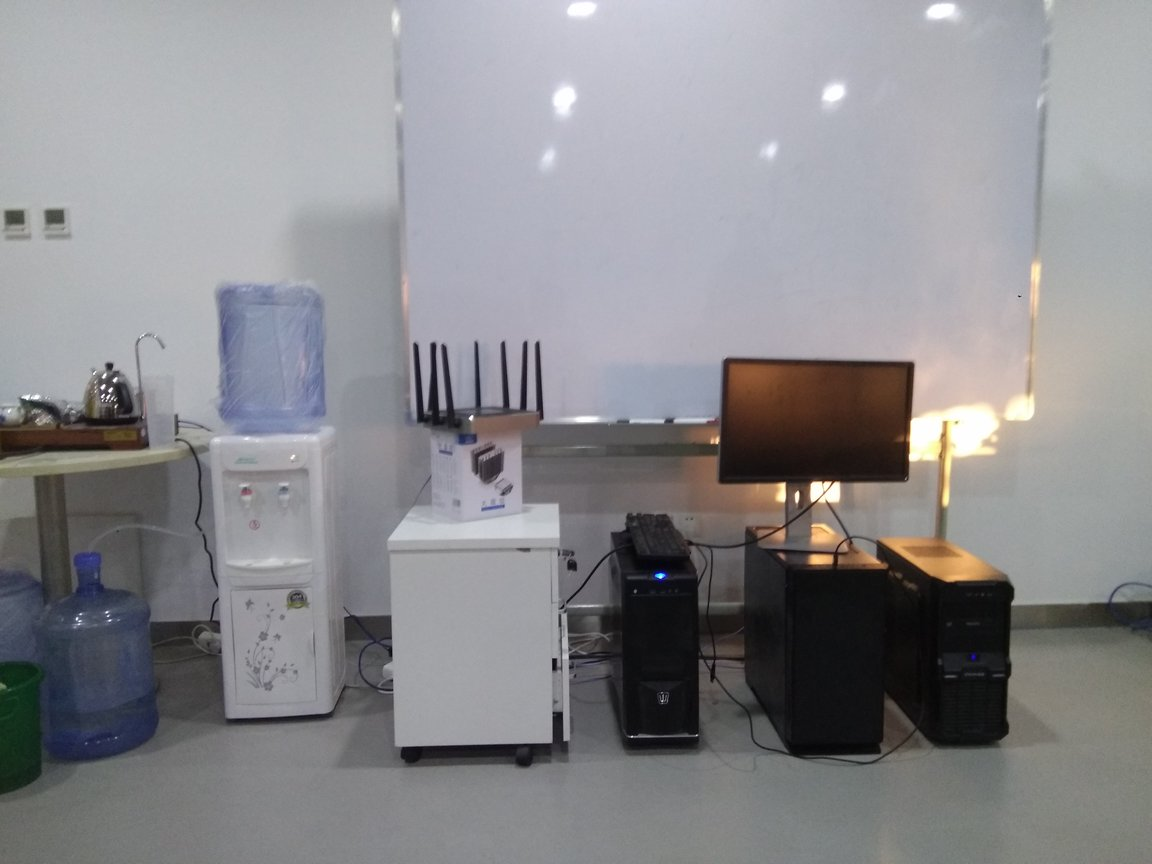computer: (751, 523, 886, 767), (874, 539, 1013, 746), (606, 524, 708, 761)
drawer chest: (384, 492, 572, 771)
monitor: (716, 352, 918, 550)
scuttlebutt: (37, 549, 162, 766), (213, 285, 337, 442), (1, 571, 68, 730)
water dispenser: (201, 423, 345, 735)
